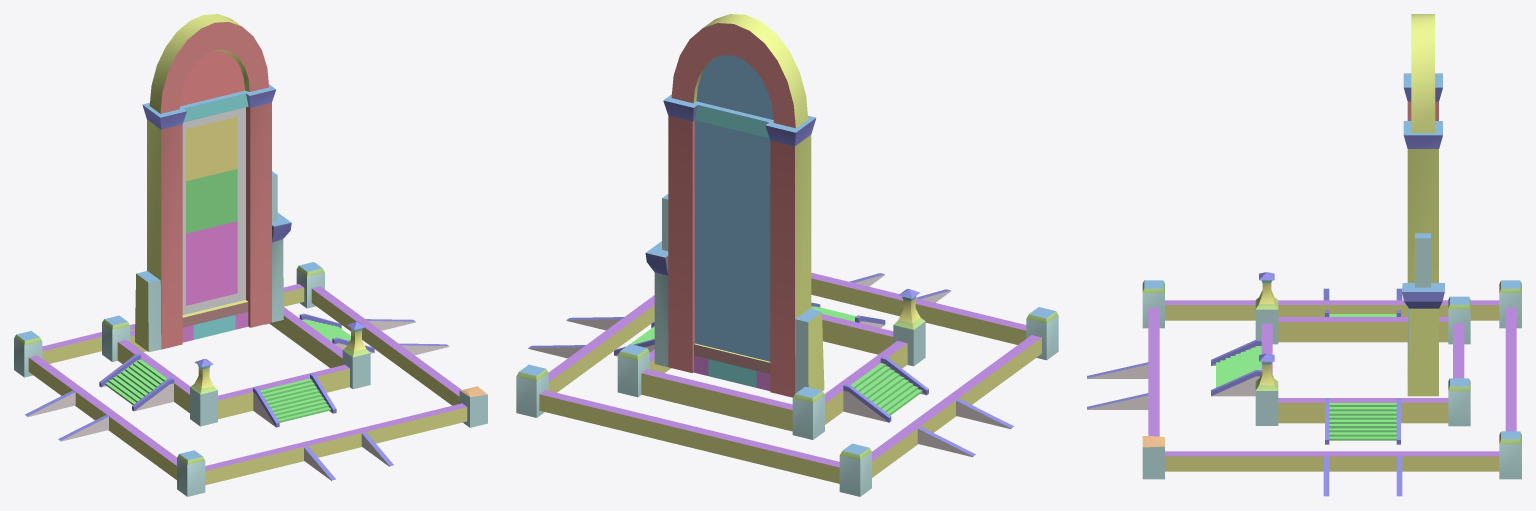
File: Oren_Delf_altar__Delf_altar.gltf
3 views of the same model, side by side, from view 1: azimuth 30°, elevation 25°; view 2: azimuth 150°, elevation 25°; view 3: azimuth 270°, elevation 25° (orthographic). The views are drawn at different scales.
Visible parts, largest first — view 1: Delf_altar; view 2: Delf_altar; view 3: Delf_altar.
Boxes of the visible parts, x1,y1,x2,y2 form: Delf_altar: (14,14,487,496); Delf_altar: (516,14,1058,496); Delf_altar: (1087,14,1521,496).
Bounding box in the file's own units: 13.95 × 11.92 × 12.35.
